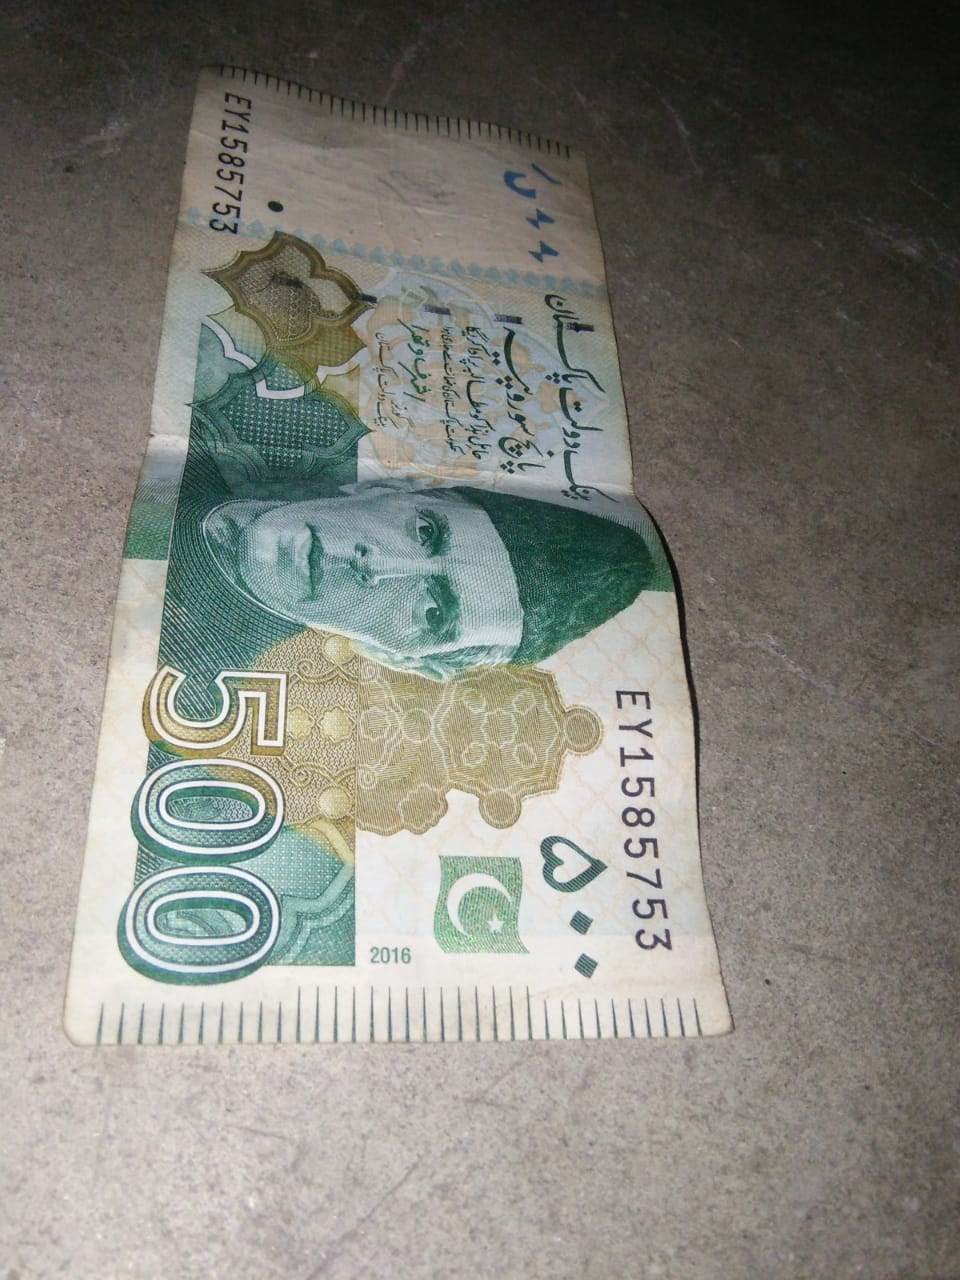500 rupee: (52, 57, 741, 1084)
